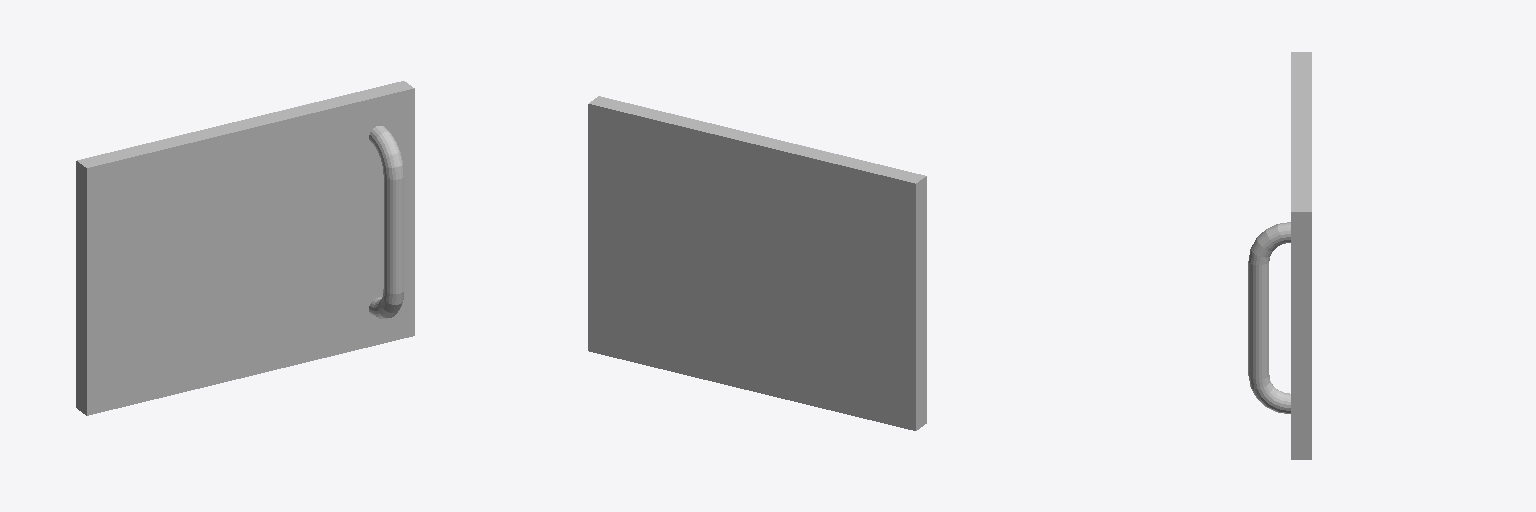
Rendered from safe_door.obj.
The picture shows the model from 3 angles: view 1: azimuth 30°, elevation 25°; view 2: azimuth 150°, elevation 25°; view 3: azimuth 270°, elevation 25°; orthographic projection.
Visible parts, largest first — view 1: pCube5; view 2: pCube5; view 3: pCube5.
Part boxes in pixels (x1,y1,x2,y2): pCube5: (76,81,414,415); pCube5: (588,96,926,430); pCube5: (1248,52,1311,459).
Size of the model in its own units: 3.6 by 2.6 by 0.6.